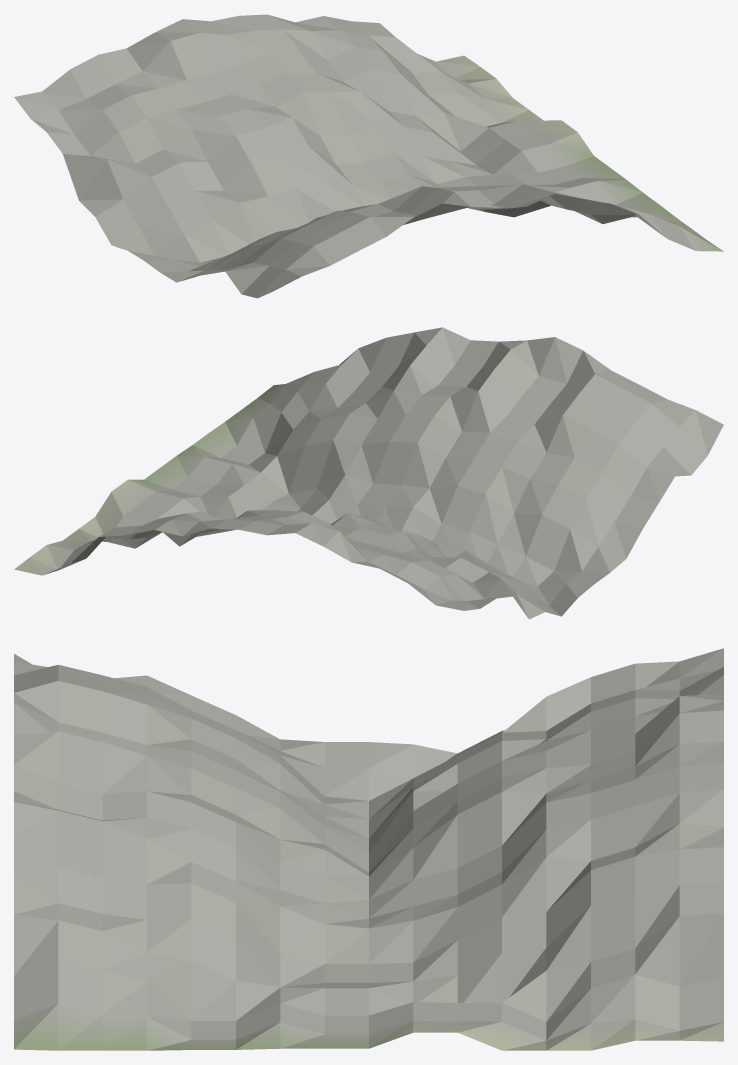
The picture shows the model from 3 angles, top to bottom: view 1: azimuth 30°, elevation 25°; view 2: azimuth 150°, elevation 25°; view 3: azimuth 270°, elevation 25°; orthographic projection. The views are drawn at different scales.
Bounding box in the file's own units: 32 × 8.78 × 32.
